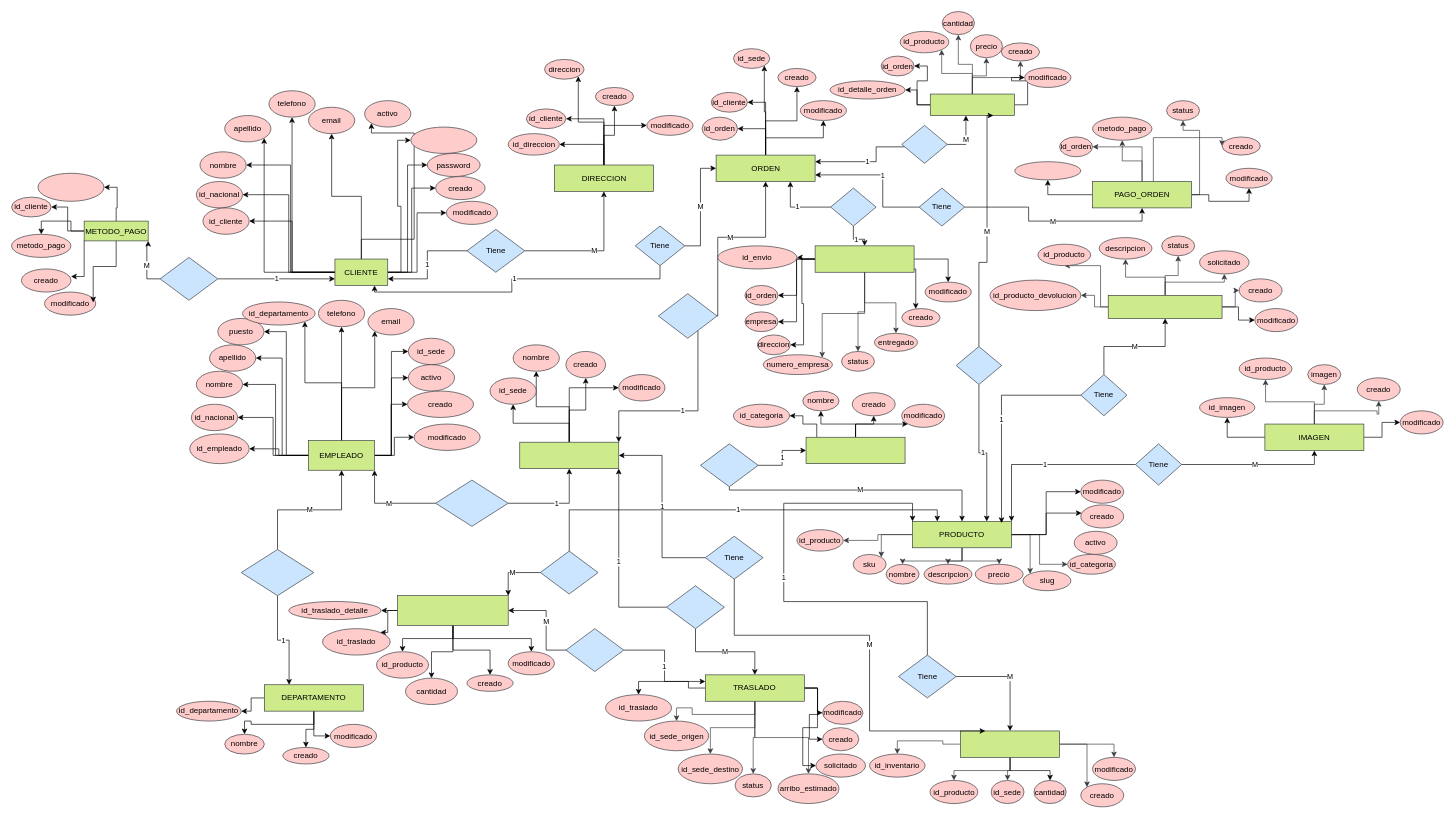
Image size: 1455x818. Some labels were removed from this diagram. The shapes that lost their labels are listed below. From the top down, each one's centre as x and y in pixels, then its label:
At (972,104): "DETALLE_ORDEN".
At (443,139): "email_confirmado".
At (924,144): "Asocian".
At (70,187): "id_metodo_pago".
At (1047,170): "id_pago_orden".
At (853,206): "Registrada".
At (188,278): "Contiene".
At (864,258): "ENVIO".
At (687,315): "Registrada en".
At (1165,306): "PRODUCTO_DEVOLUCION".
At (978,365): "Registra".
At (569,455): "SEDE".
At (729,465): "Parte de".
At (855,450): "CATEGORIA".
At (471,502): "Trabaja en".
At (277,572): "Es parte de".
At (569,572): "Aparece".
At (452,610): "DETALLE_TRASLADO".
At (695,607): "Registrada a".
At (594,650): "Registran".
At (1010,743): "INVENTARIO".
